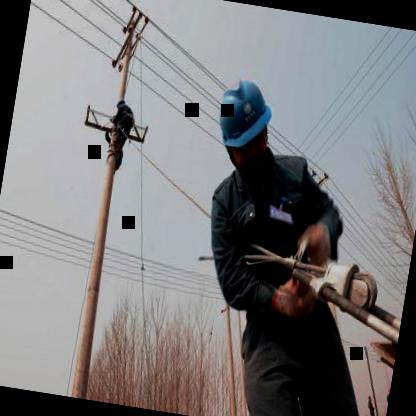helmet: (202, 63, 283, 185)
